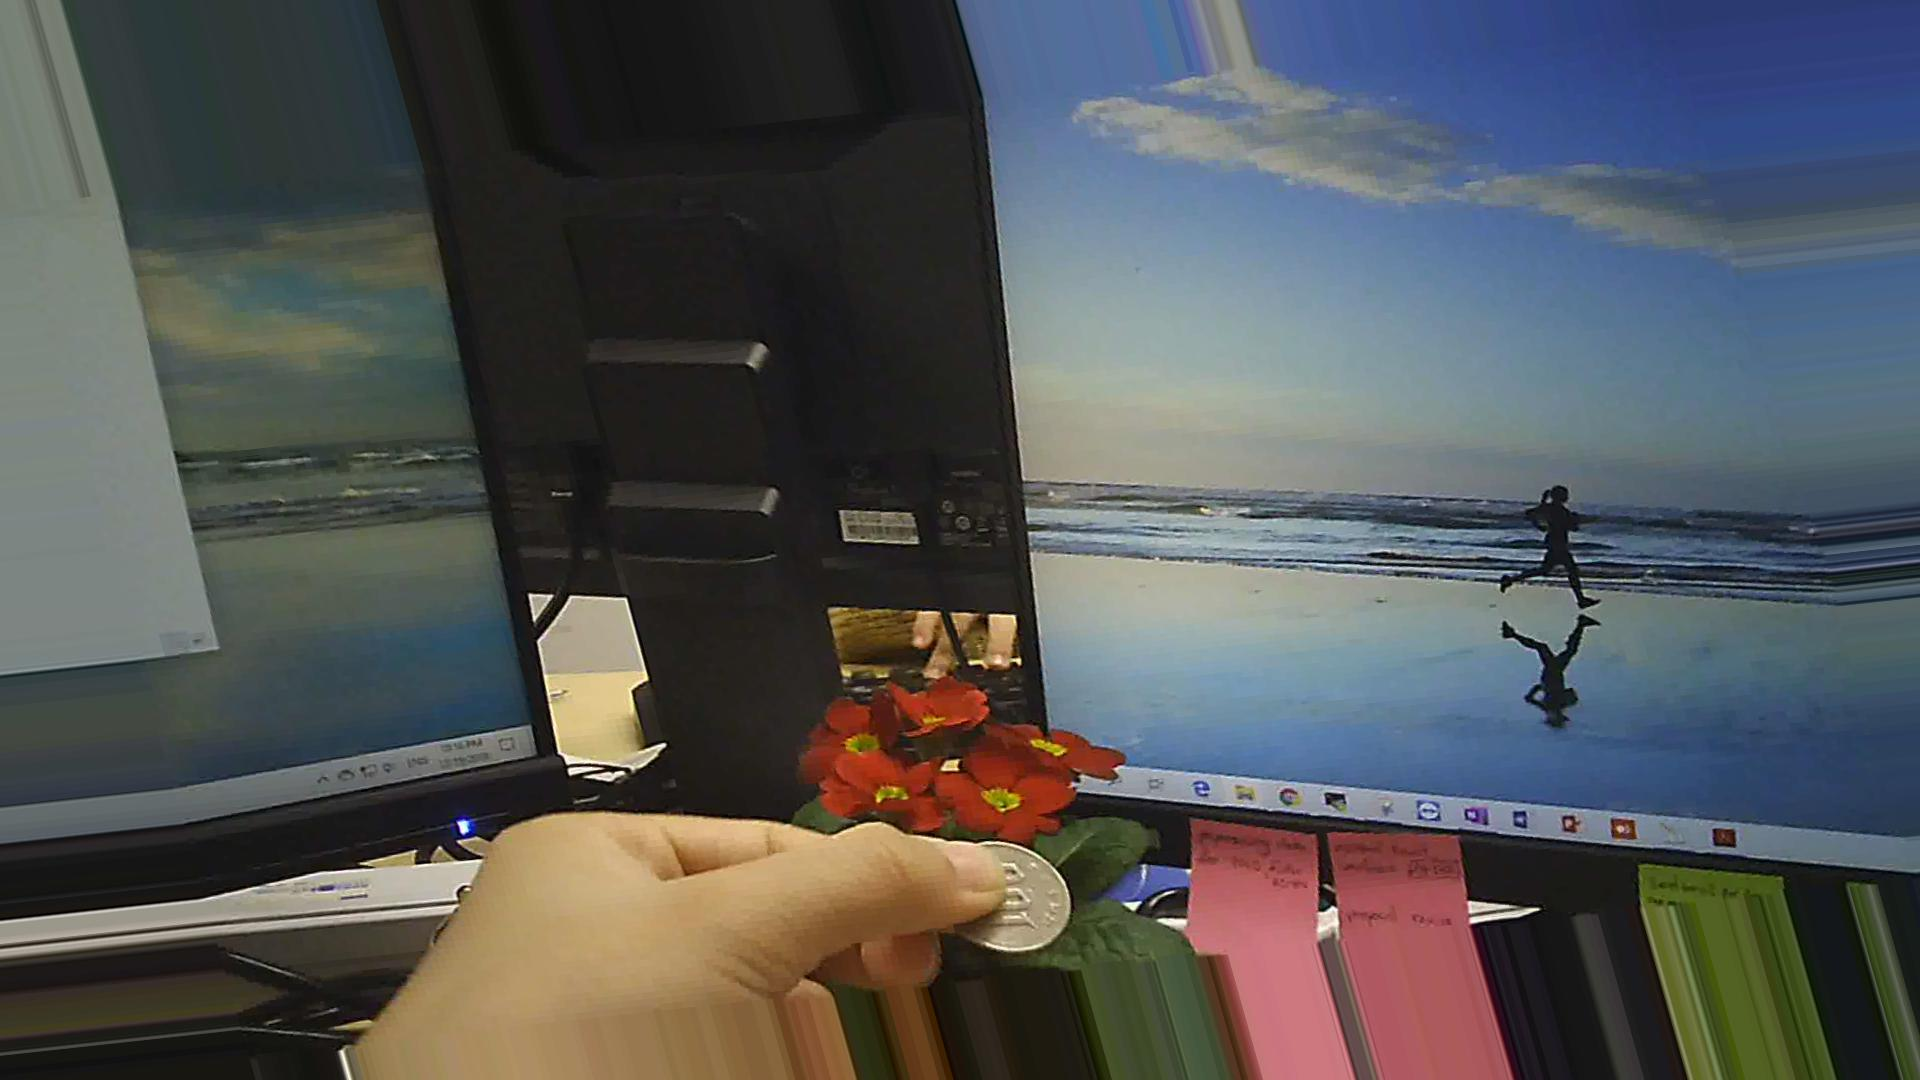100 Yen: (913, 839, 1098, 967)
